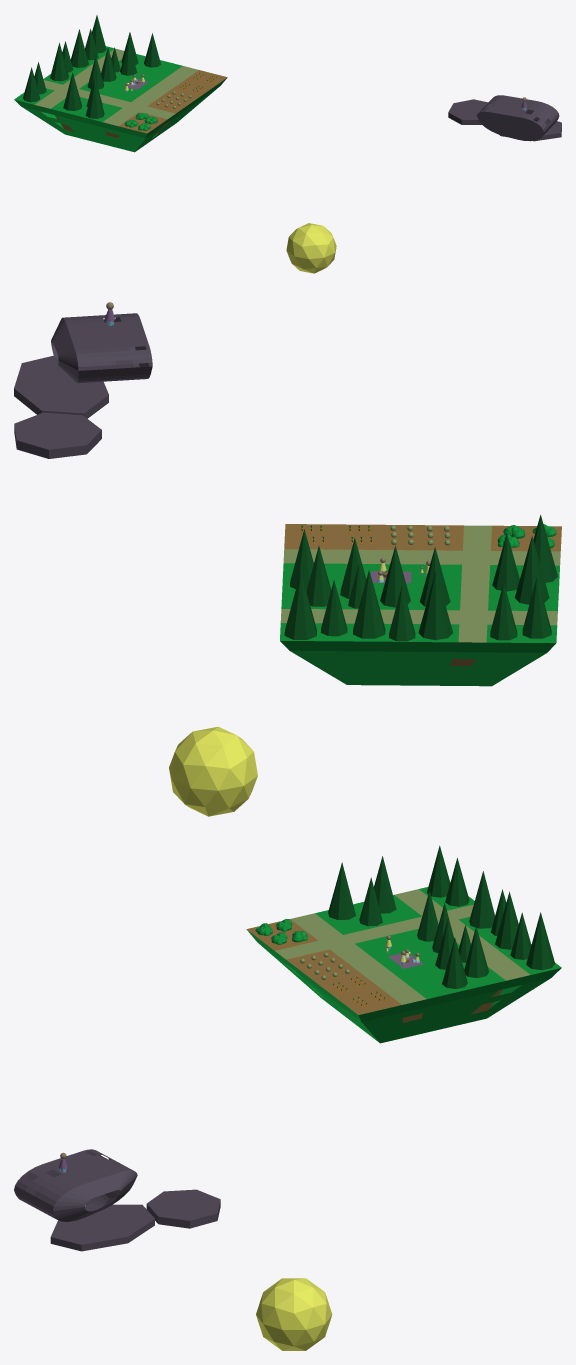
File: project3.gltf
3 renders of one model, top to bottom at view 1: azimuth 30°, elevation 25°; view 2: azimuth 150°, elevation 25°; view 3: azimuth 270°, elevation 25°, orthographic. The views are drawn at different scales.
Visible parts, largest first — view 1: island, Cube, sun, Cylinder.008, Cone.007, Cone.005, Cone, Cone.008, Cone.001, Cone.015, Cone.014; view 2: island, sun, Cube, Cylinder.007, Cylinder.008, Cone.007, Cone.008, Cone.010, Cone, Cone.001, Cone.004, Cone.012 (+8 smaller); view 3: island, Cube, sun, Cylinder.007, Cylinder.008, Cone.010, Cone.005, Cone.007, Cone.008, Cone.015, Cone, Cone.012 (+4 smaller).
Boxes of the visible parts, x1,y1,x2,y2 form: island: [14, 46, 227, 152]; Cube: [477, 95, 559, 141]; sun: [286, 223, 336, 273]; Cylinder.008: [448, 99, 488, 124]; Cone.007: [50, 42, 68, 81]; Cone.005: [85, 80, 104, 118]; Cone: [63, 72, 81, 110]; Cone.008: [70, 29, 88, 67]; Cone.001: [23, 67, 40, 102]; Cone.015: [144, 33, 160, 67]; Cone.014: [120, 41, 137, 75]; island: [280, 524, 561, 686]; sun: [169, 726, 257, 816]; Cube: [51, 313, 152, 383]; Cylinder.007: [14, 355, 108, 418]; Cylinder.008: [14, 412, 101, 458]; Cone.007: [418, 571, 452, 640]; Cone.008: [353, 569, 385, 638]; Cone.010: [284, 571, 316, 639]; Cone: [514, 536, 549, 604]; Cone.001: [522, 577, 551, 638]; Cone.004: [380, 545, 410, 607]; Cone.012: [306, 546, 331, 606]; island: [246, 887, 561, 1043]; Cube: [14, 1149, 137, 1221]; sun: [256, 1278, 332, 1350]; Cylinder.007: [50, 1204, 154, 1251]; Cylinder.008: [146, 1189, 220, 1228]; Cone.010: [526, 912, 554, 970]; Cone.005: [328, 862, 355, 920]; Cone.007: [469, 871, 494, 928]; Cone.008: [495, 891, 518, 949]; Cone.015: [442, 937, 467, 988]; Cone: [374, 856, 396, 913]; Cone.012: [464, 926, 488, 977].
Bounding box in the file's own units: 75.95 × 39.15 × 56.93.
